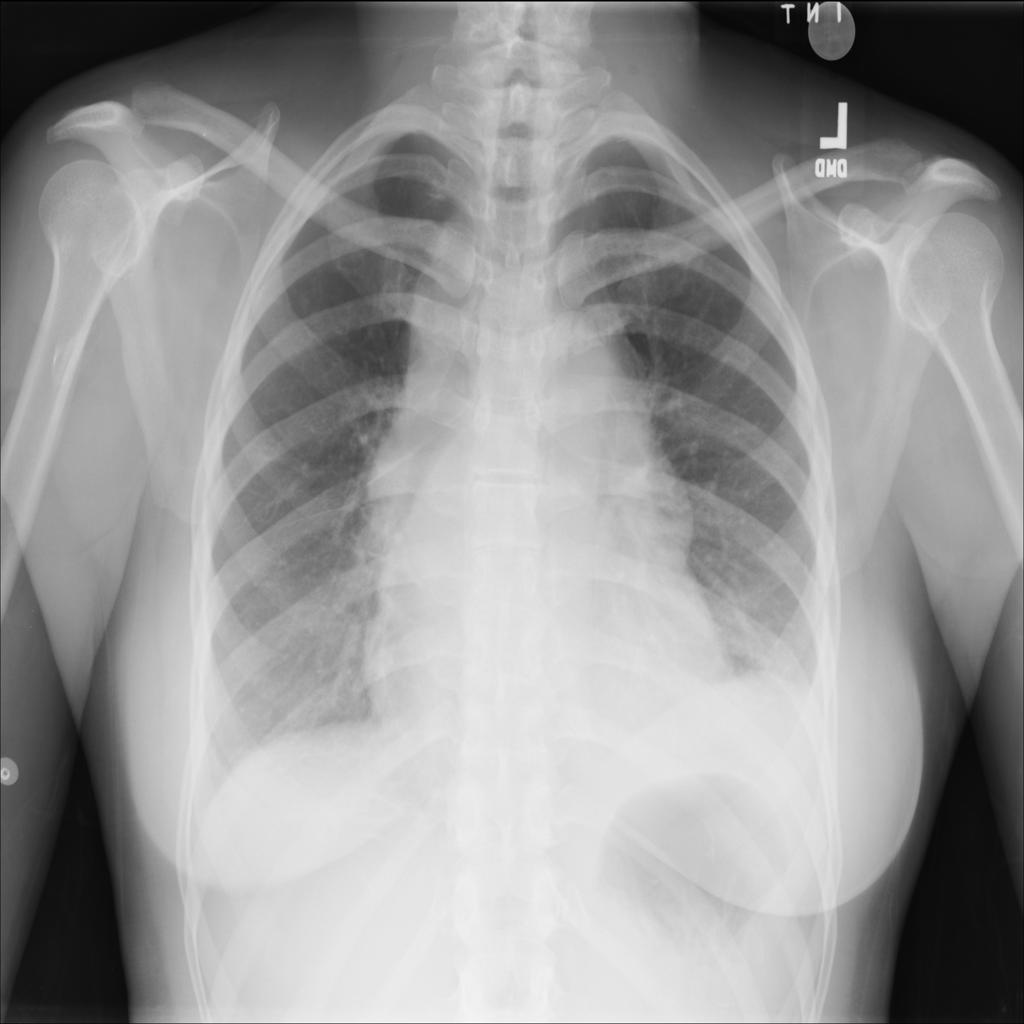nodule: (279, 278, 328, 328)
